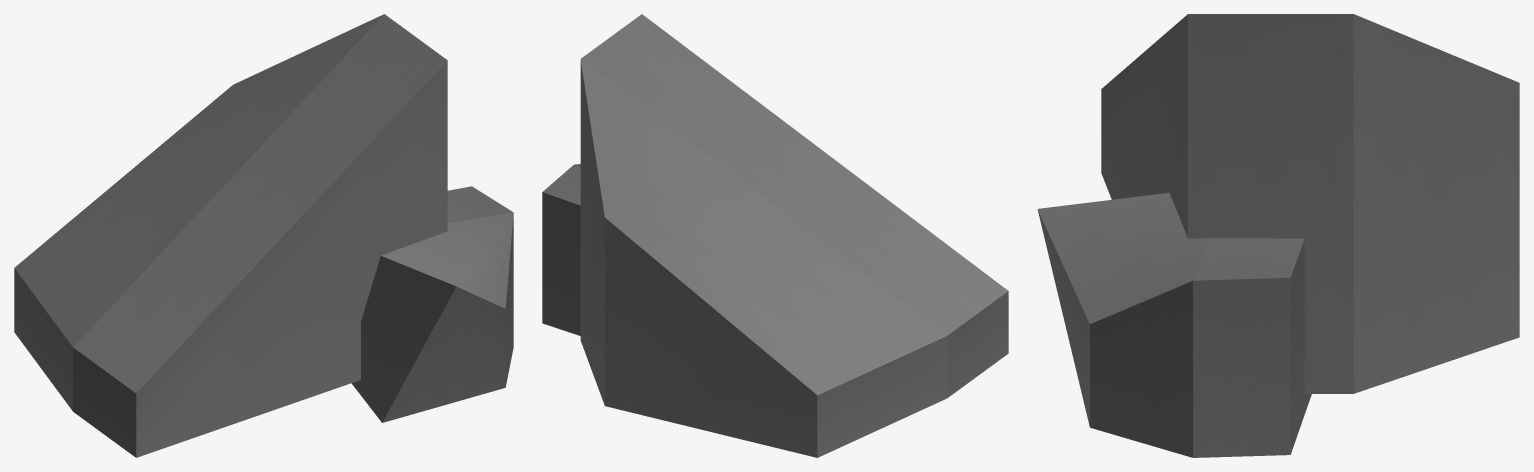
The model's file is pack02_rocks_20.fbx.
3 renders of one model, left to right at view 1: azimuth 30°, elevation 25°; view 2: azimuth 150°, elevation 25°; view 3: azimuth 270°, elevation 25°, orthographic. The views are drawn at different scales.
Visible parts, largest first — view 1: Rock Type5 04 mesh; view 2: Rock Type5 04 mesh; view 3: Rock Type5 04 mesh.
Part boxes in pixels (x1,y1,x2,y2): Rock Type5 04 mesh: [14, 14, 513, 457]; Rock Type5 04 mesh: [542, 14, 1008, 457]; Rock Type5 04 mesh: [1037, 14, 1519, 457].
Bounding box in the file's own units: 118 × 83.51 × 91.1.
Materials: 1 (1 with a texture image).
